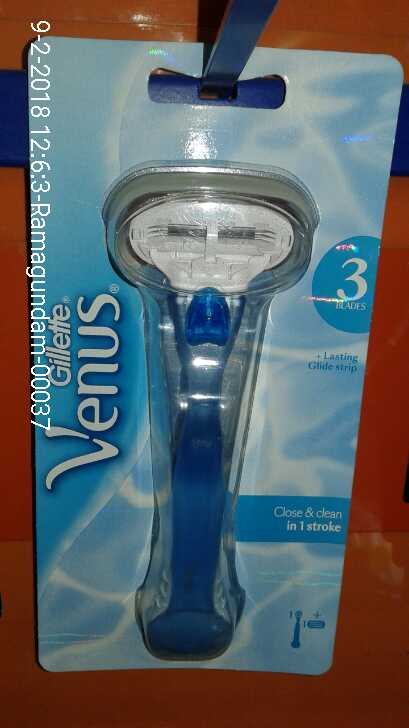venus: (74, 48, 355, 669)
